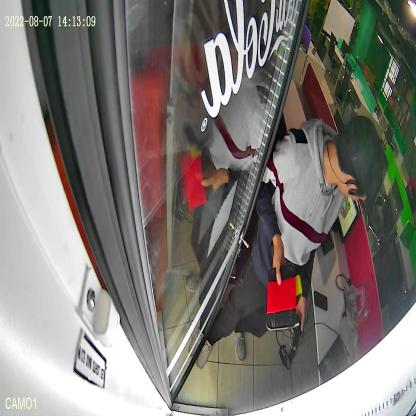red: (266, 264, 296, 331)
yellow: (294, 269, 302, 309)
